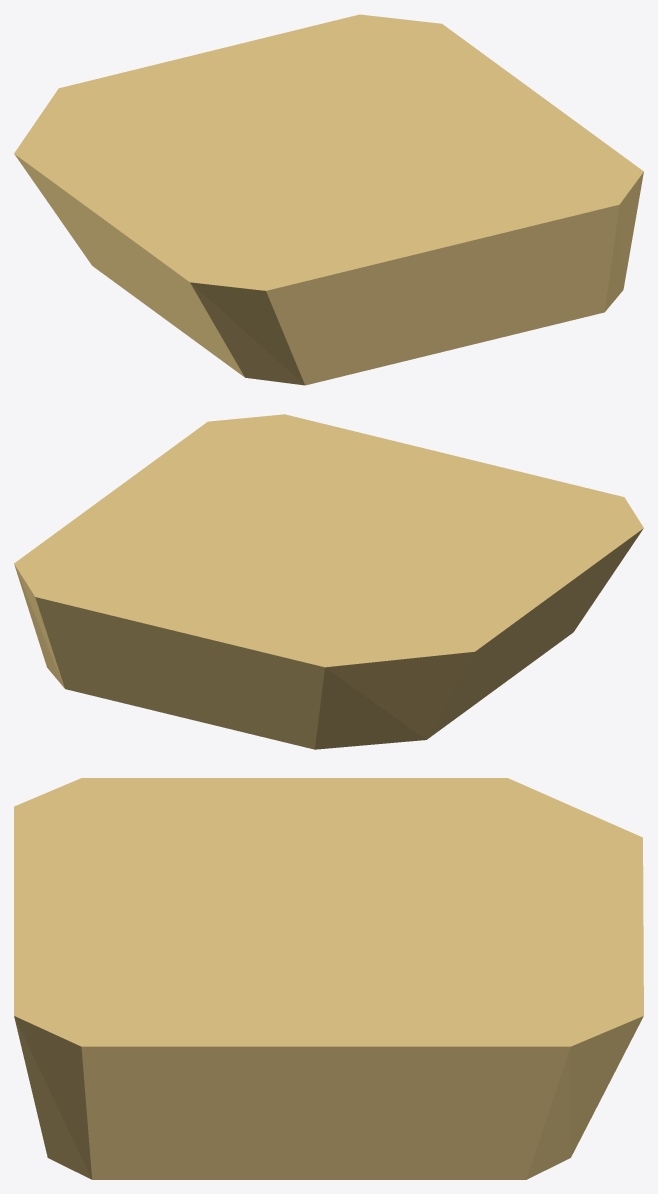
Rendered from robot__visual__rx78_Null_083_link__rx78_Null_084_link__rx78_object_085-lib.dae_1.glb.
3 views of the same model, one above another, from view 1: azimuth 30°, elevation 25°; view 2: azimuth 150°, elevation 25°; view 3: azimuth 270°, elevation 25° (orthographic). The views are drawn at different scales.
Visible parts, largest first — view 1: world; view 2: world; view 3: world.
Boxes of the visible parts, bbox=[...] form: world: bbox=[14, 14, 643, 385]; world: bbox=[14, 414, 643, 749]; world: bbox=[14, 778, 643, 1179].
Size of the model in its own units: 1.13 by 0.2801 by 1.12.
